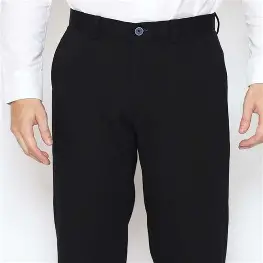kemeja_benar: (48, 14, 226, 261)
